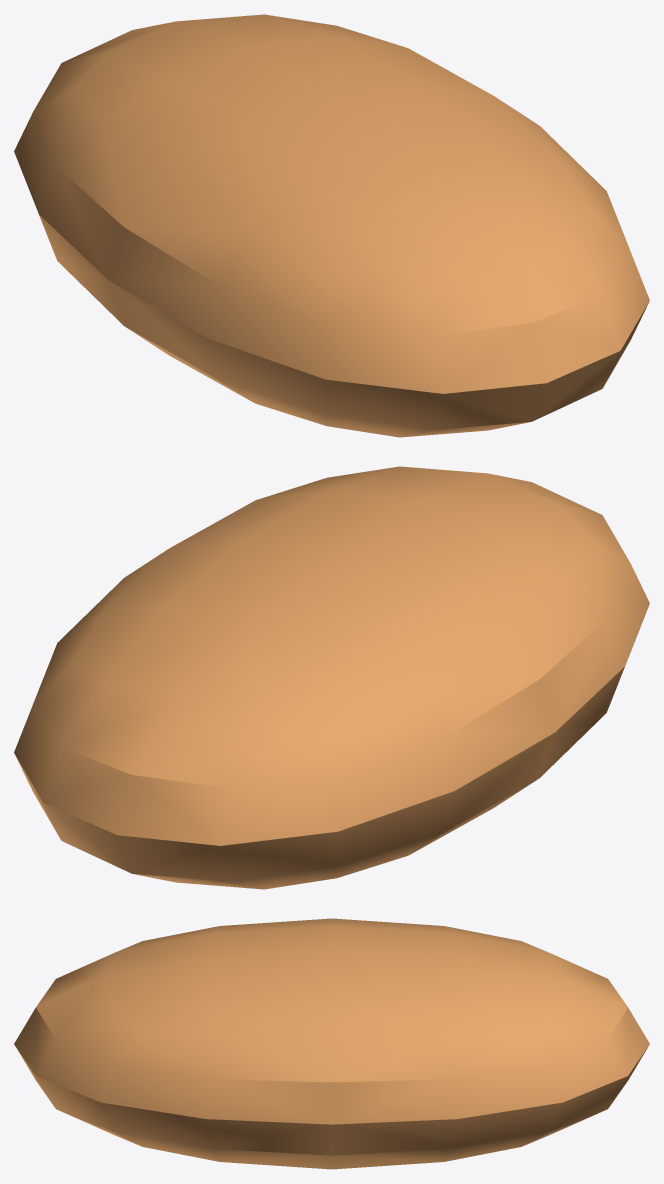
Rendered from Leg_L.obj.
3 views of the same model, one above another, from view 1: azimuth 30°, elevation 25°; view 2: azimuth 150°, elevation 25°; view 3: azimuth 270°, elevation 25° (orthographic). The views are drawn at different scales.
Parts seen in each view (by area): view 1: P_Leg_L; view 2: P_Leg_L; view 3: P_Leg_L.
Boxes of the visible parts, bbox=[...] form: P_Leg_L: bbox=[14, 14, 649, 437]; P_Leg_L: bbox=[14, 466, 649, 889]; P_Leg_L: bbox=[14, 918, 649, 1169].
Bounding box in the file's own units: 0.225 × 0.12 × 0.375.
1 material, 1 textured.
